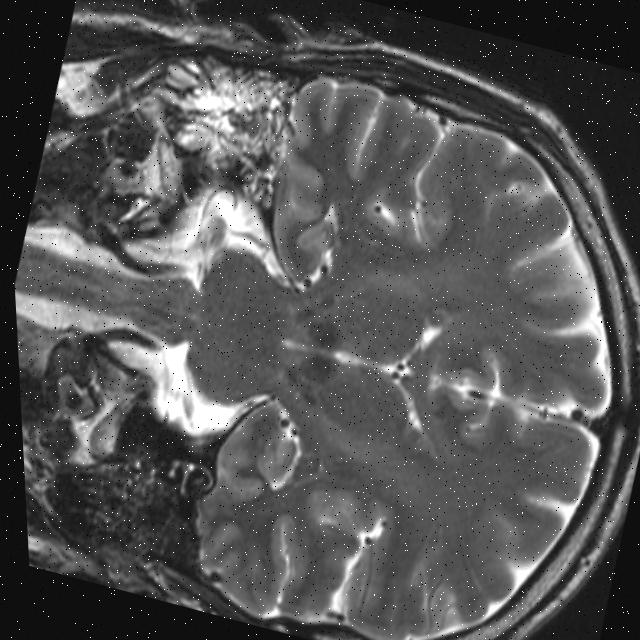NoTumor: (143, 19, 640, 640)
